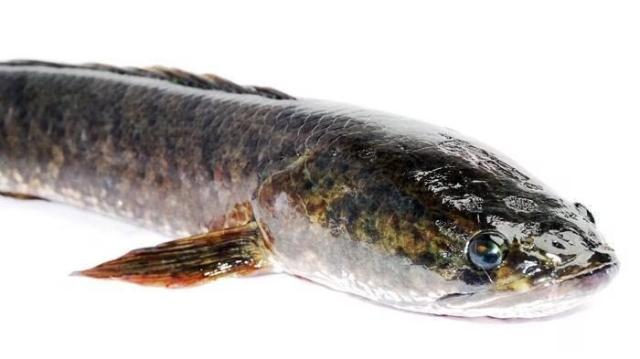Mulut: (413, 230, 637, 342)
Sirip Dada: (58, 206, 306, 310)
